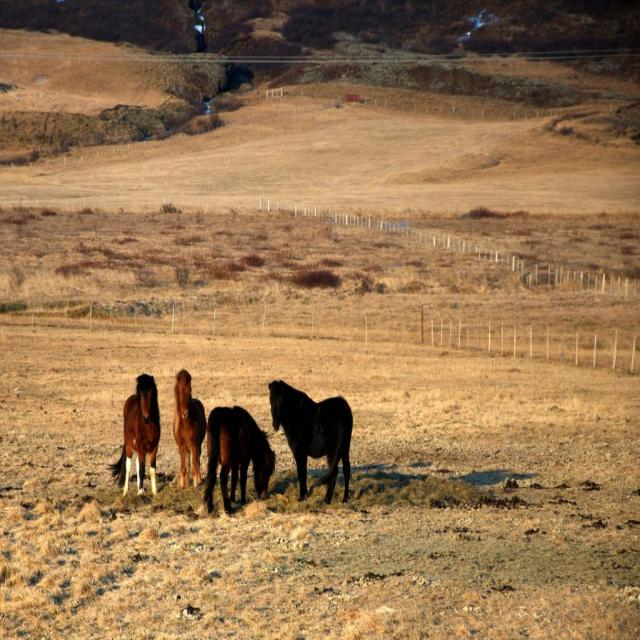Horse: (268, 380, 352, 500), (207, 404, 276, 516), (108, 373, 162, 500), (172, 367, 206, 489)
